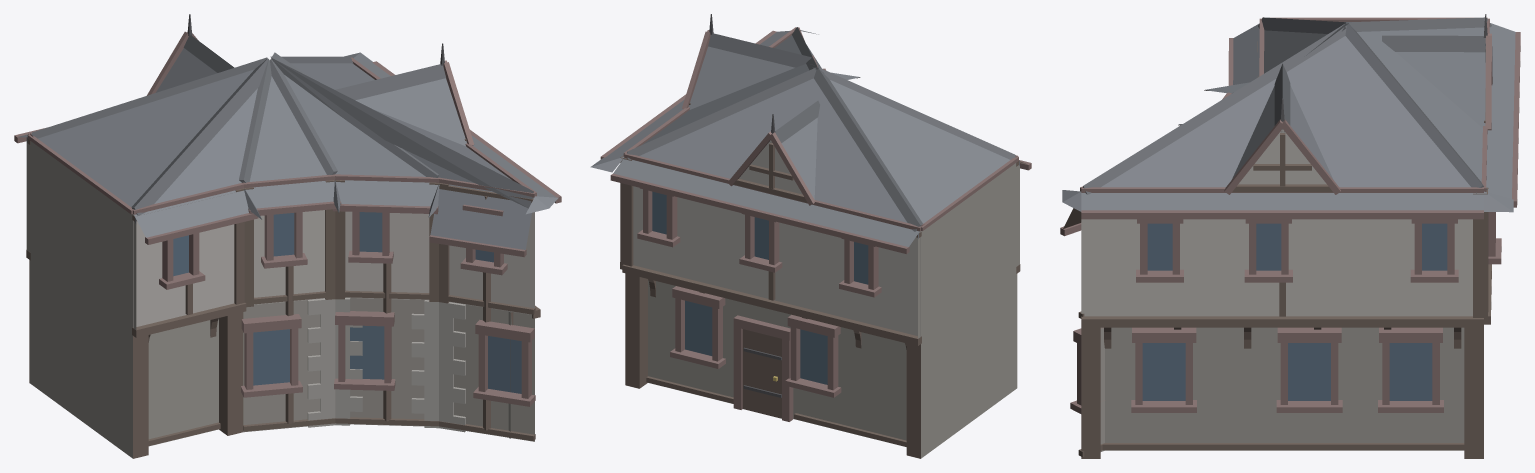
Rendered from b067_closed.glb.
The picture shows the model from 3 angles, left to right: view 1: azimuth 30°, elevation 25°; view 2: azimuth 150°, elevation 25°; view 3: azimuth 270°, elevation 25°; orthographic projection. The views are drawn at different scales.
Parts seen in each view (by area): view 1: B067_visible; view 2: B067_visible; view 3: B067_visible.
Boxes of the visible parts, x1=… form: B067_visible: x1=14, y1=14, x2=561, y2=458; B067_visible: x1=590, y1=14, x2=1031, y2=458; B067_visible: x1=1060, y1=14, x2=1520, y2=458.
Bounding box in the file's own units: 9.47 × 8.68 × 9.99.
